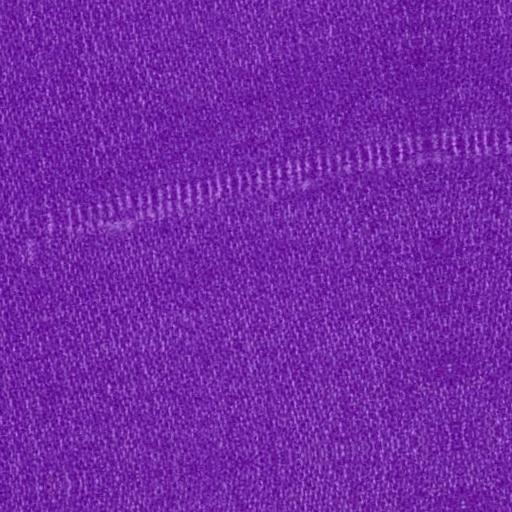slub: (31, 116, 512, 256)
